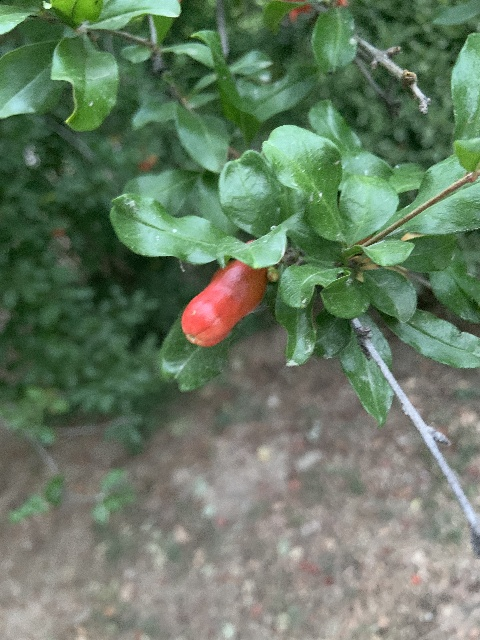bud: (181, 259, 267, 348)
